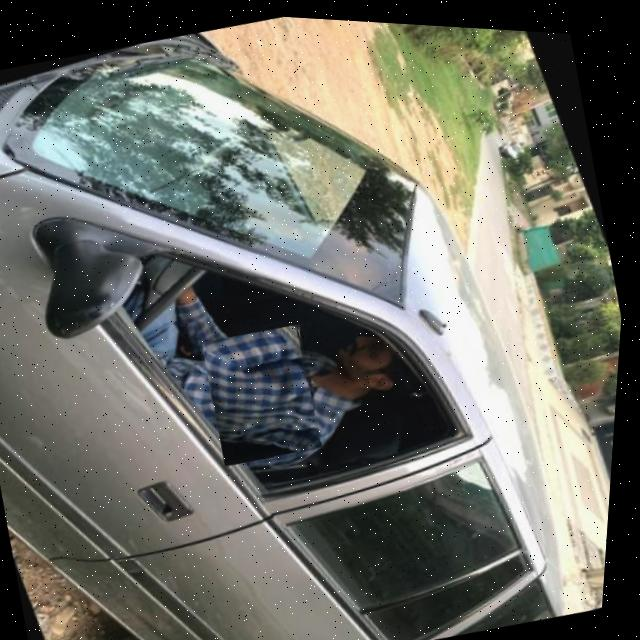no-seatbelt: (199, 315, 334, 467)
